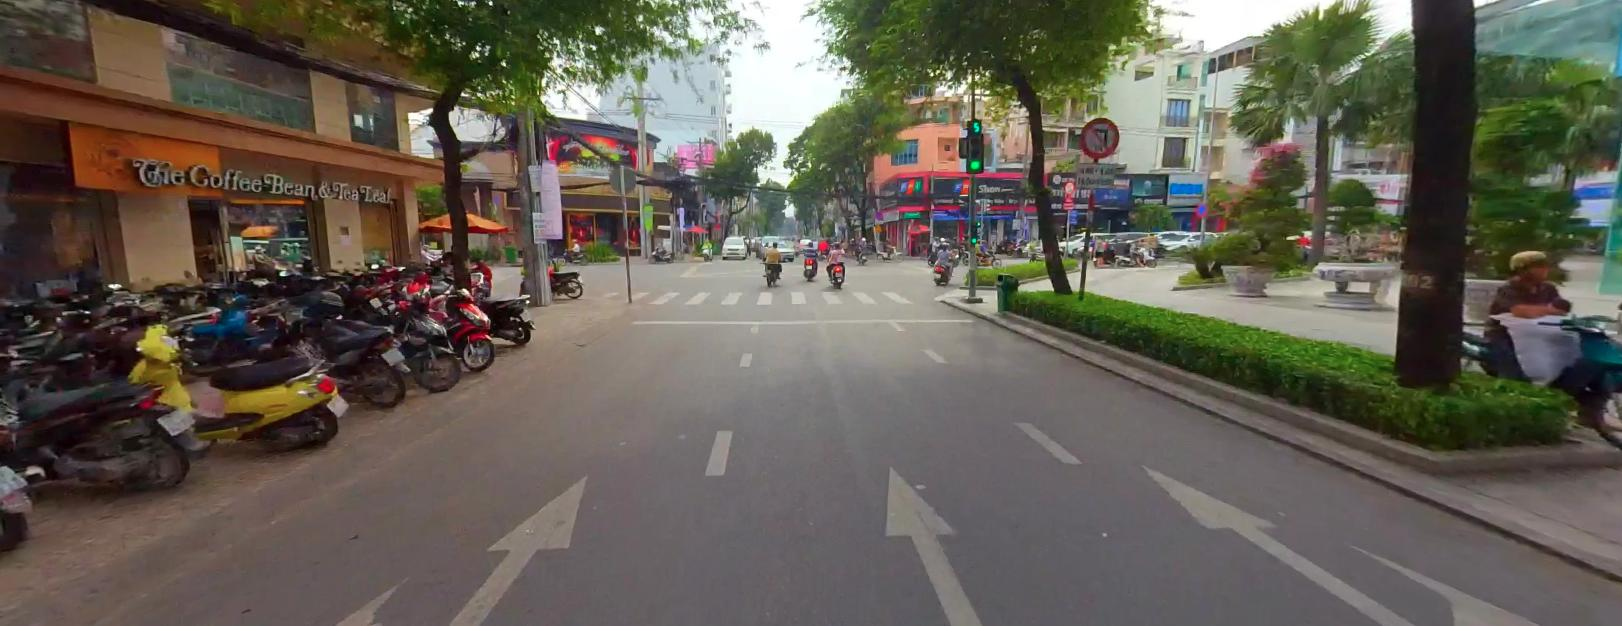Cam con lai: (1064, 180, 1074, 193)
Cam dung va do: (1195, 201, 1207, 216), (874, 210, 881, 218)
Cam re: (1079, 117, 1118, 156)
Nguy hiem: (873, 221, 882, 230)
